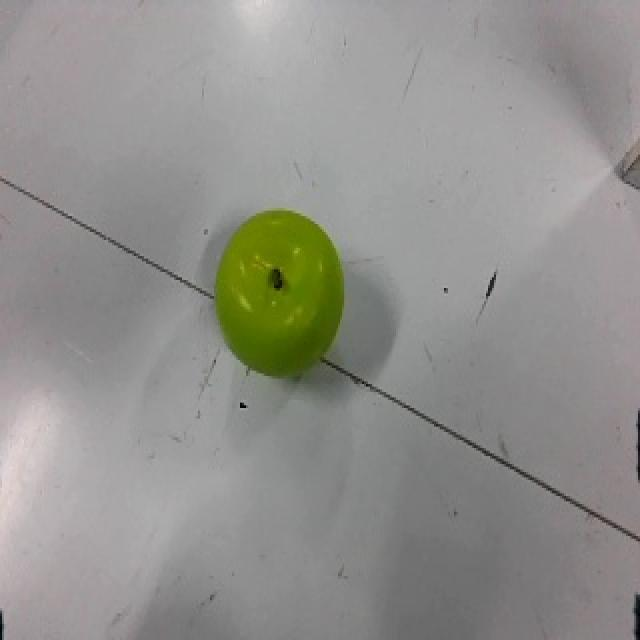apple: (215, 208, 347, 381)
